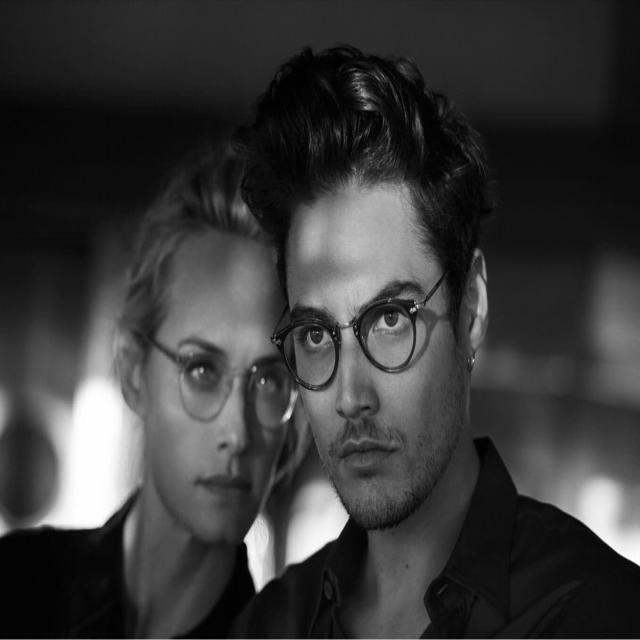Glasses: (277, 274, 448, 401), (145, 332, 297, 436)
